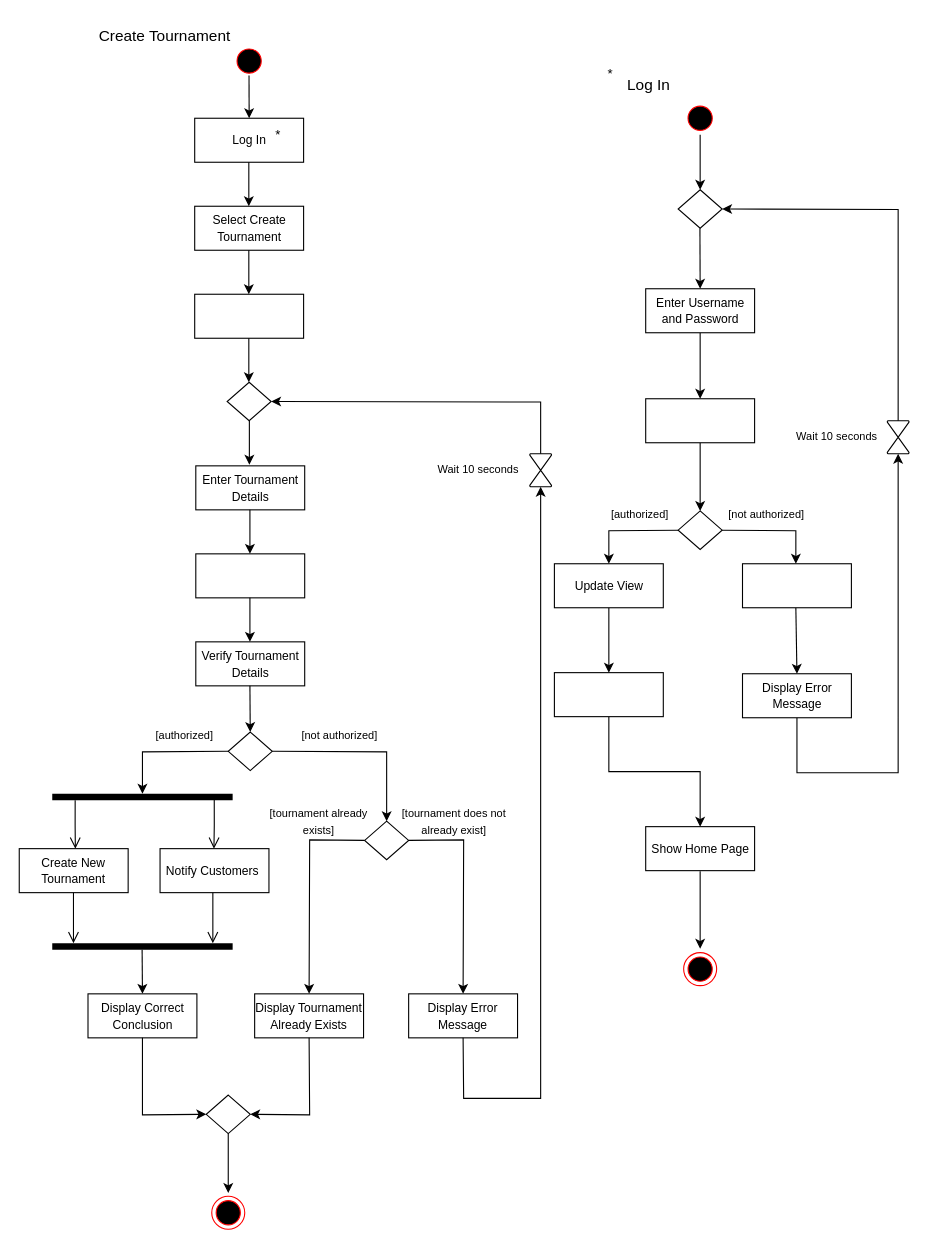
Image size: 928x1249. Some labels were removed from this diagram. The shapes that lost their labels are listed below. From the top down, each one's centre as x and y in pixels, then its label:
At [249,315]: "Display Form".
At [700,420]: "Verify Username and Password".
At [250,575]: "Select Create Button".
At [796,585]: "Reject Log In".
At [608,694]: "Set userID".
